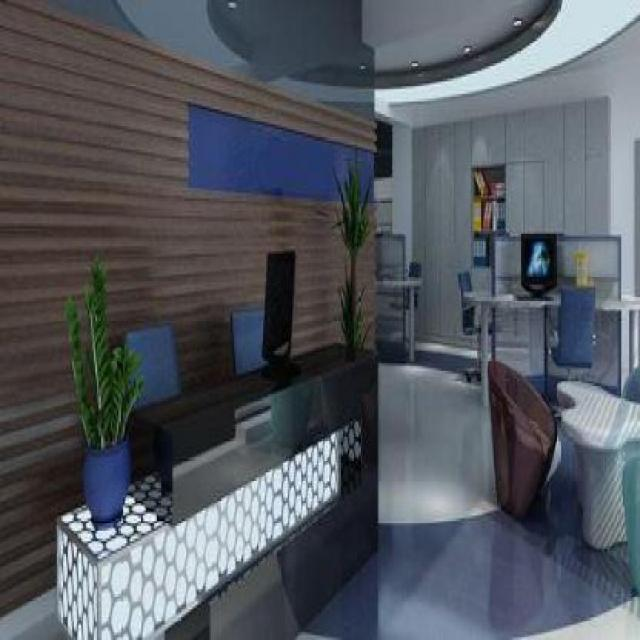frontdesk: (51, 337, 384, 639)
